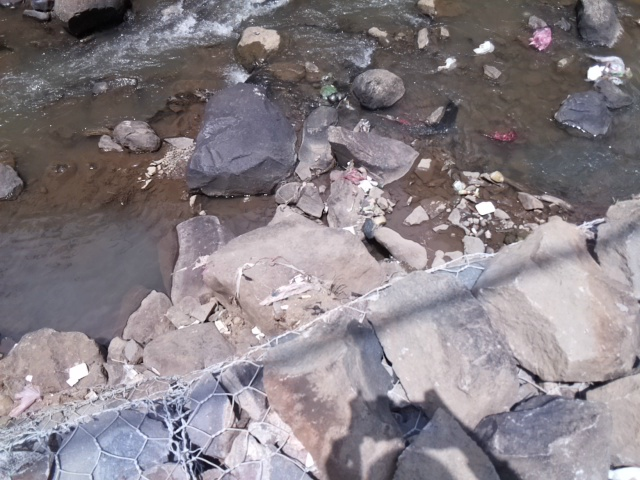Sampah_Plastik: (597, 52, 627, 77), (344, 160, 371, 187), (529, 24, 552, 51), (482, 129, 521, 142)
Sampah_Styrofoam: (473, 200, 497, 216), (68, 364, 89, 380), (473, 40, 495, 55), (585, 63, 603, 80)
